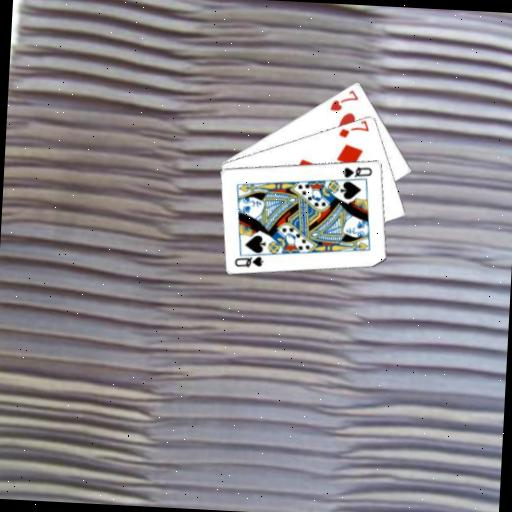7D: (336, 117, 371, 140)
7H: (328, 86, 361, 114)
QS: (339, 162, 374, 180), (231, 252, 265, 269)
